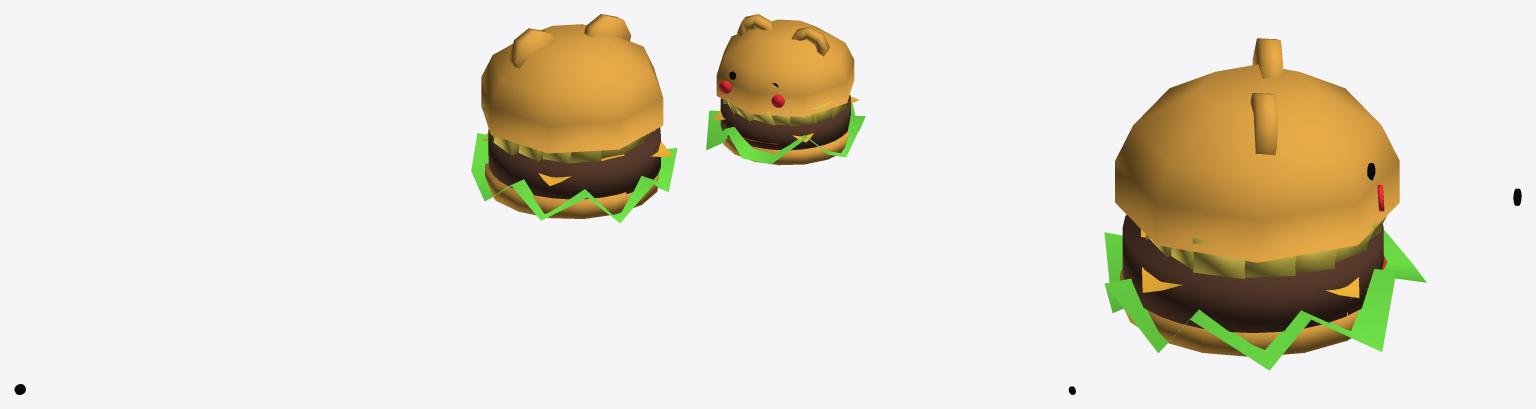
Rendered from jueun1.glb.
3 renders of one model, left to right at view 1: azimuth 30°, elevation 25°; view 2: azimuth 150°, elevation 25°; view 3: azimuth 270°, elevation 25°, orthographic. The views are drawn at different scales.
Visible parts, largest first — view 1: Circle.004, Circle.012, Circle.013, Circle, Circle.005, Circle.006; view 2: Circle.004, Circle.012, Circle.013, Circle, Circle.005, Circle.006; view 3: Circle.004, Circle.012, Circle.013, Circle, Circle.006, Cube.008, Circle.005, Cube.009, Plane, Cube.010, Cube.011.
Part boxes in pixels (box(x1,y1,x2,y2)): Circle.004: box(481, 24, 663, 153); Circle.012: box(488, 127, 660, 199); Circle.013: box(471, 133, 677, 222); Circle: box(485, 163, 658, 218); Circle.005: box(509, 28, 555, 68); Circle.006: box(584, 14, 631, 41); Circle.004: box(716, 19, 854, 117); Circle.012: box(720, 95, 850, 150); Circle.013: box(706, 94, 865, 164); Circle: box(723, 131, 849, 165); Circle.005: box(792, 26, 829, 56); Circle.006: box(737, 14, 773, 36); Circle.004: box(1115, 64, 1399, 262); Circle.012: box(1122, 214, 1383, 332); Circle.013: box(1104, 229, 1426, 370); Circle: box(1120, 268, 1384, 356); Circle.006: box(1250, 93, 1278, 155); Cube.008: box(1192, 238, 1245, 279); Circle.005: box(1252, 38, 1282, 78); Cube.009: box(1244, 256, 1296, 277); Plane: box(1141, 229, 1359, 297); Cube.010: box(1295, 248, 1337, 273); Cube.011: box(1335, 221, 1377, 262).
Bounding box in the file's own units: 17.17 × 9.36 × 7.32.
